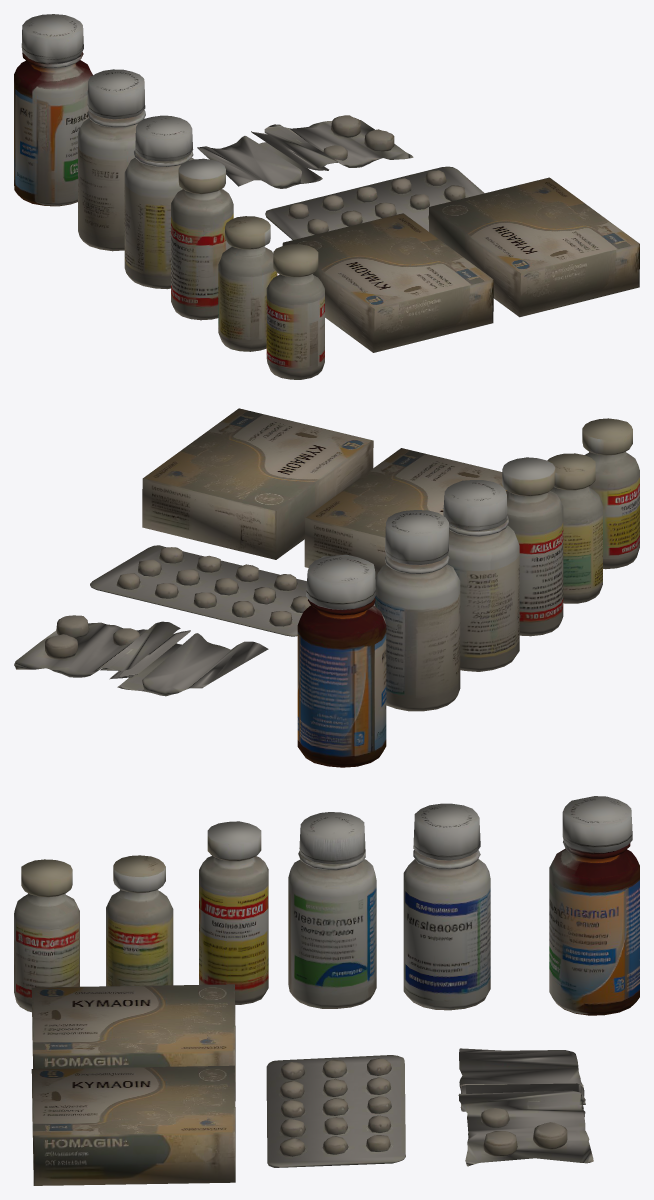
File: Bunch of meds.fbx
The picture shows the model from 3 angles, top to bottom: view 1: azimuth 30°, elevation 25°; view 2: azimuth 150°, elevation 25°; view 3: azimuth 270°, elevation 25°; orthographic projection. The views are drawn at different scales.
Parts seen in each view (by area): view 1: tripo_node_09e8a1c8-be8d-4225-b859-9c78aca80fe6.006, tripo_node_09e8a1c8-be8d-4225-b859-9c78aca80fe6.011, tripo_node_09e8a1c8-be8d-4225-b859-9c78aca80fe6.007, tripo_node_09e8a1c8-be8d-4225-b859-9c78aca80fe6.005, tripo_node_09e8a1c8-be8d-4225-b859-9c78aca80fe6.004, tripo_node_09e8a1c8-be8d-4225-b859-9c78aca80fe6.013, tripo_node_09e8a1c8-be8d-4225-b859-9c78aca80fe6.003, tripo_node_09e8a1c8-be8d-4225-b859-9c78aca80fe6.012, tripo_node_09e8a1c8-be8d-4225-b859-9c78aca80fe6.001, tripo_node_09e8a1c8-be8d-4225-b859-9c78aca80fe6.002; view 2: tripo_node_09e8a1c8-be8d-4225-b859-9c78aca80fe6.006, tripo_node_09e8a1c8-be8d-4225-b859-9c78aca80fe6.007, tripo_node_09e8a1c8-be8d-4225-b859-9c78aca80fe6.005, tripo_node_09e8a1c8-be8d-4225-b859-9c78aca80fe6.004, tripo_node_09e8a1c8-be8d-4225-b859-9c78aca80fe6.013, tripo_node_09e8a1c8-be8d-4225-b859-9c78aca80fe6.012, tripo_node_09e8a1c8-be8d-4225-b859-9c78aca80fe6.011, tripo_node_09e8a1c8-be8d-4225-b859-9c78aca80fe6.003, tripo_node_09e8a1c8-be8d-4225-b859-9c78aca80fe6.001, tripo_node_09e8a1c8-be8d-4225-b859-9c78aca80fe6.002; view 3: tripo_node_09e8a1c8-be8d-4225-b859-9c78aca80fe6.006, tripo_node_09e8a1c8-be8d-4225-b859-9c78aca80fe6.007, tripo_node_09e8a1c8-be8d-4225-b859-9c78aca80fe6.011, tripo_node_09e8a1c8-be8d-4225-b859-9c78aca80fe6.005, tripo_node_09e8a1c8-be8d-4225-b859-9c78aca80fe6.004, tripo_node_09e8a1c8-be8d-4225-b859-9c78aca80fe6.012, tripo_node_09e8a1c8-be8d-4225-b859-9c78aca80fe6.013, tripo_node_09e8a1c8-be8d-4225-b859-9c78aca80fe6.003, tripo_node_09e8a1c8-be8d-4225-b859-9c78aca80fe6.001, tripo_node_09e8a1c8-be8d-4225-b859-9c78aca80fe6.002.
Part boxes in pixels (x1,y1,x2,y2): tripo_node_09e8a1c8-be8d-4225-b859-9c78aca80fe6.006: (429, 177, 639, 317); tripo_node_09e8a1c8-be8d-4225-b859-9c78aca80fe6.011: (282, 213, 493, 352); tripo_node_09e8a1c8-be8d-4225-b859-9c78aca80fe6.007: (14, 14, 92, 206); tripo_node_09e8a1c8-be8d-4225-b859-9c78aca80fe6.005: (78, 69, 145, 251); tripo_node_09e8a1c8-be8d-4225-b859-9c78aca80fe6.004: (124, 115, 194, 289); tripo_node_09e8a1c8-be8d-4225-b859-9c78aca80fe6.013: (197, 115, 413, 188); tripo_node_09e8a1c8-be8d-4225-b859-9c78aca80fe6.003: (171, 158, 233, 320); tripo_node_09e8a1c8-be8d-4225-b859-9c78aca80fe6.012: (265, 166, 484, 239); tripo_node_09e8a1c8-be8d-4225-b859-9c78aca80fe6.001: (266, 244, 324, 379); tripo_node_09e8a1c8-be8d-4225-b859-9c78aca80fe6.002: (218, 216, 277, 351); tripo_node_09e8a1c8-be8d-4225-b859-9c78aca80fe6.006: (142, 408, 373, 559); tripo_node_09e8a1c8-be8d-4225-b859-9c78aca80fe6.007: (297, 554, 386, 767); tripo_node_09e8a1c8-be8d-4225-b859-9c78aca80fe6.005: (374, 510, 460, 711); tripo_node_09e8a1c8-be8d-4225-b859-9c78aca80fe6.004: (443, 480, 519, 671); tripo_node_09e8a1c8-be8d-4225-b859-9c78aca80fe6.013: (14, 615, 268, 696); tripo_node_09e8a1c8-be8d-4225-b859-9c78aca80fe6.012: (90, 545, 310, 636); tripo_node_09e8a1c8-be8d-4225-b859-9c78aca80fe6.011: (304, 448, 506, 577); tripo_node_09e8a1c8-be8d-4225-b859-9c78aca80fe6.003: (502, 457, 563, 636); tripo_node_09e8a1c8-be8d-4225-b859-9c78aca80fe6.001: (582, 418, 639, 569); tripo_node_09e8a1c8-be8d-4225-b859-9c78aca80fe6.002: (547, 453, 602, 603); tripo_node_09e8a1c8-be8d-4225-b859-9c78aca80fe6.006: (31, 1065, 235, 1185); tripo_node_09e8a1c8-be8d-4225-b859-9c78aca80fe6.007: (549, 796, 639, 1015); tripo_node_09e8a1c8-be8d-4225-b859-9c78aca80fe6.011: (31, 984, 235, 1100); tripo_node_09e8a1c8-be8d-4225-b859-9c78aca80fe6.005: (403, 803, 490, 1010); tripo_node_09e8a1c8-be8d-4225-b859-9c78aca80fe6.004: (288, 812, 376, 1008); tripo_node_09e8a1c8-be8d-4225-b859-9c78aca80fe6.012: (266, 1055, 405, 1167); tripo_node_09e8a1c8-be8d-4225-b859-9c78aca80fe6.013: (458, 1048, 593, 1166); tripo_node_09e8a1c8-be8d-4225-b859-9c78aca80fe6.003: (199, 821, 268, 1004); tripo_node_09e8a1c8-be8d-4225-b859-9c78aca80fe6.001: (14, 859, 79, 1012); tripo_node_09e8a1c8-be8d-4225-b859-9c78aca80fe6.002: (106, 855, 173, 986).
Bounding box in the file's own units: 79.43 × 33.4 × 99.8.
Materials: 1 (1 with a texture image).
